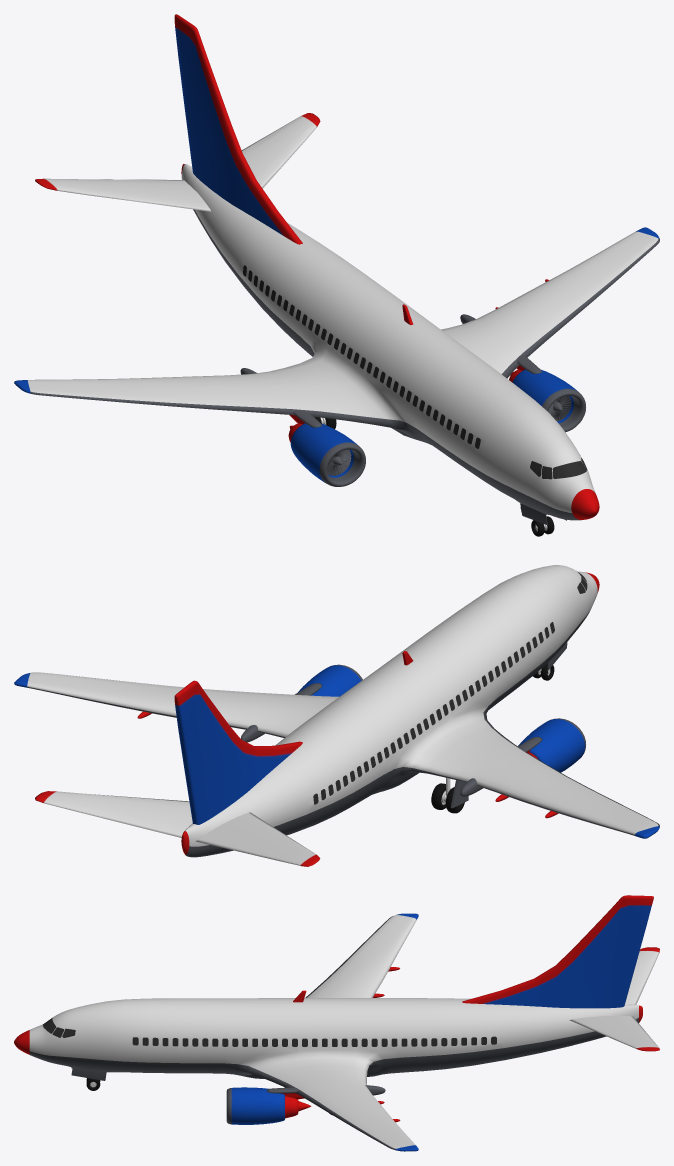
The picture shows the model from 3 angles, top to bottom: view 1: azimuth 30°, elevation 25°; view 2: azimuth 150°, elevation 25°; view 3: azimuth 270°, elevation 25°; orthographic projection. The views are drawn at different scales.
Parts seen in each view (by area): view 1: Object_2, Object_3; view 2: Object_2, Object_3; view 3: Object_2, Object_3.
Part boxes in pixels (x1,y1,x2,y2): Object_2: (14, 164, 659, 525); Object_3: (35, 14, 585, 536); Object_2: (14, 565, 659, 857); Object_3: (35, 651, 585, 866); Object_2: (14, 913, 642, 1151); Object_3: (86, 895, 659, 1124).
Size of the model in its own units: 3.07 by 1.17 by 3.54.
1 material, 1 textured.
